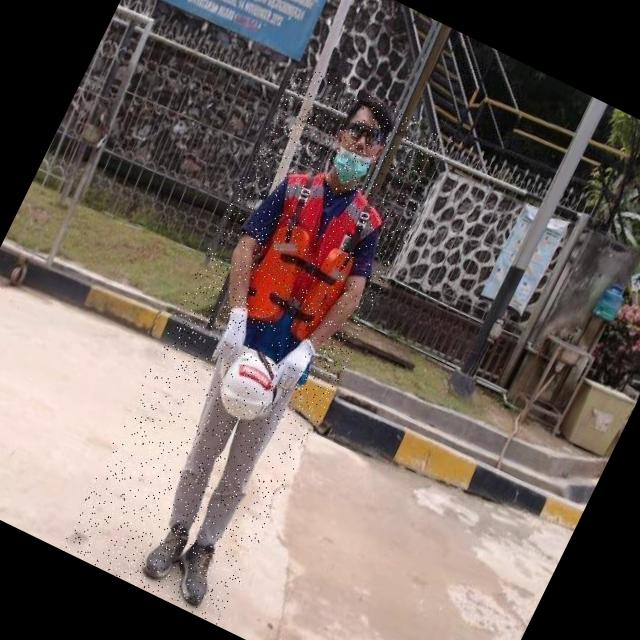hard_hat: (203, 339, 292, 429)
safety_vest: (205, 156, 392, 384)
vehicle: (61, 59, 457, 626)
work_boots: (162, 532, 228, 610), (140, 514, 194, 586)
